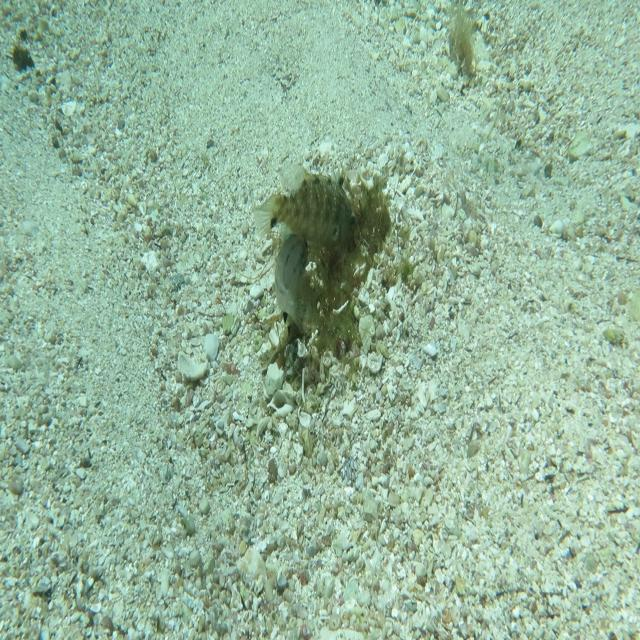NIP_CORE: (253, 159, 361, 255)
female: (274, 232, 314, 338)
nest: (263, 158, 401, 380)
